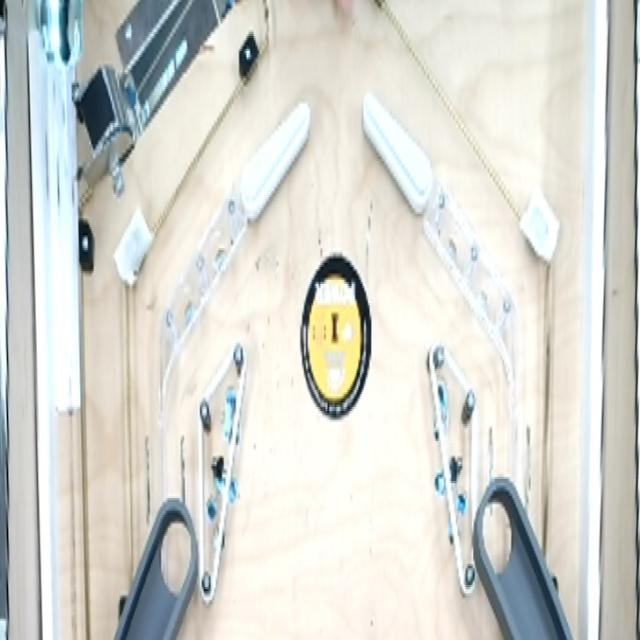flipper-left: (358, 82, 444, 236)
flipper-right: (236, 90, 318, 228)
